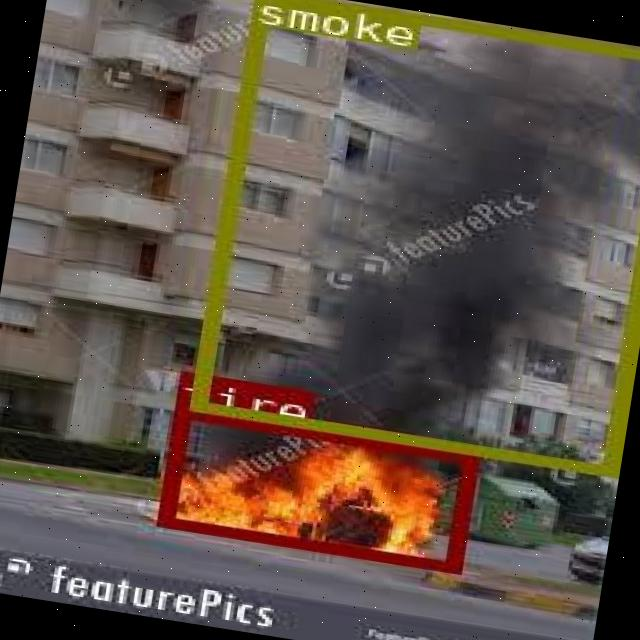fire: (155, 404, 478, 571)
smoke: (187, 0, 640, 473)
